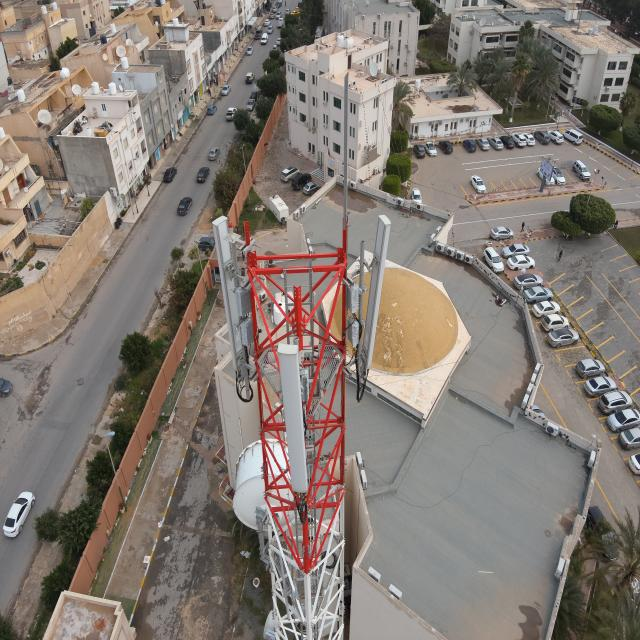Ground Based: (207, 70, 397, 640)
